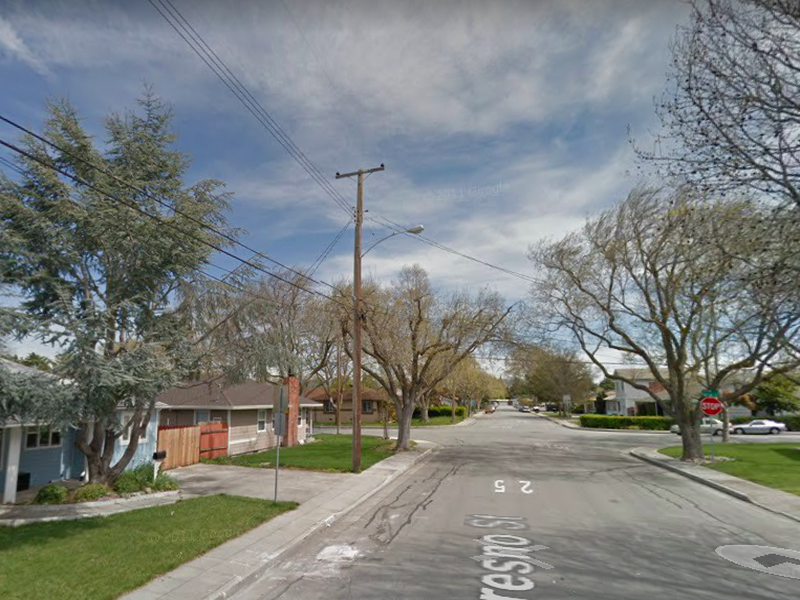tree: (1, 77, 269, 487)
utility_pole: (329, 155, 392, 227)
